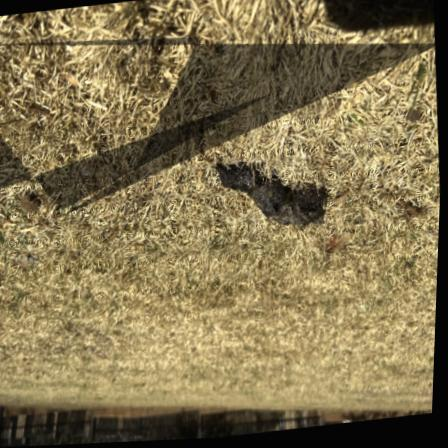dog-poop: (200, 148, 342, 249)
